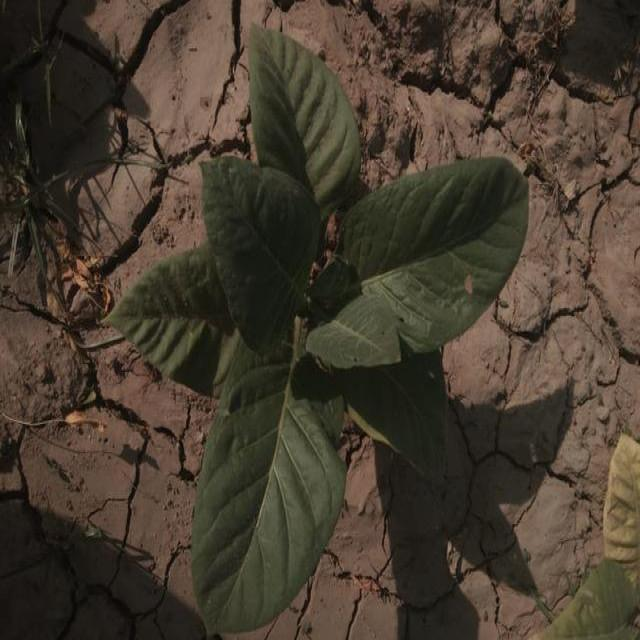crop: (113, 30, 531, 618), (570, 431, 640, 640)
